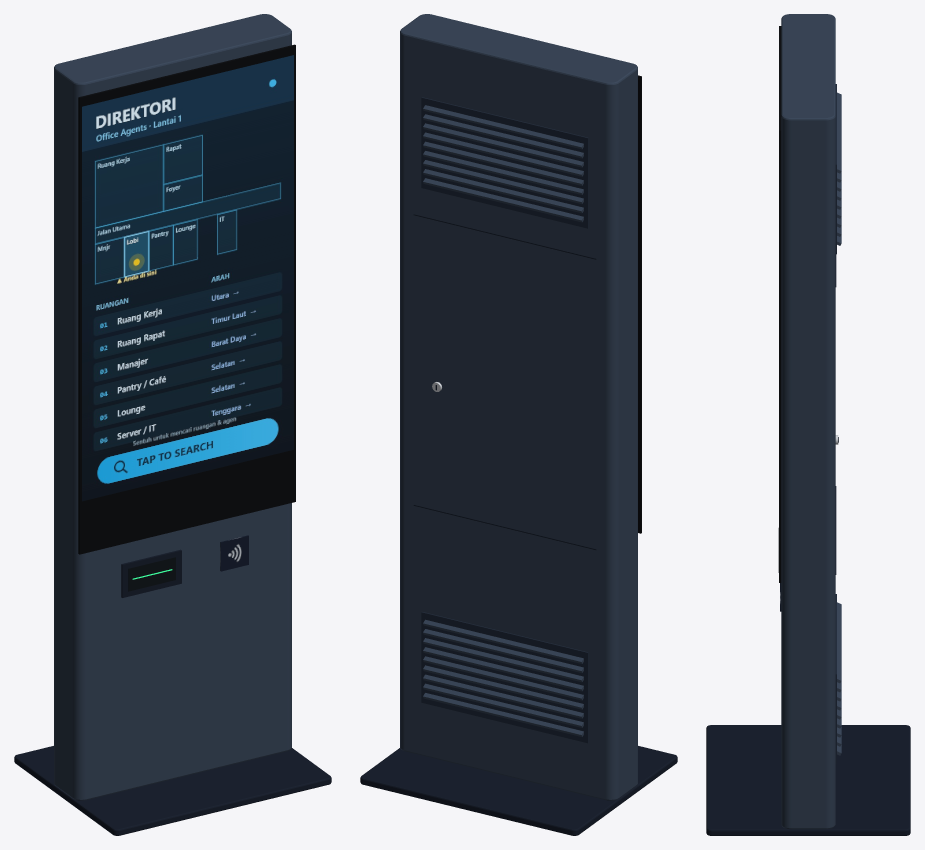
Rendered from Office_Lobby_Directory_Kiosk.glb.
The picture shows the model from 3 angles, left to right: view 1: azimuth 30°, elevation 25°; view 2: azimuth 150°, elevation 25°; view 3: azimuth 270°, elevation 25°; orthographic projection.
Visible parts, largest first — view 1: Kiosk_Screen, Monolith_Enclosure, Front_Toughened_Glass, Floor_Base_Plate, QR_Scanner_Window, QR_Scanner_Bezel, NFC_Tap_Badge; view 2: Monolith_Enclosure, Floor_Base_Plate, Louver_Frame_1, Louver_Frame_0, Front_Toughened_Glass, Louver_0_5, Louver_1_0, Louver_1_6, Louver_1_8, Louver_0_1, Louver_0_3, Louver_1_4 (+11 smaller); view 3: Monolith_Enclosure, Floor_Base_Plate, Front_Toughened_Glass, Louver_0_8, Louver_1_8.
Boxes of the visible parts, x1,y1,x2,y2 form: Kiosk_Screen: (82,55,293,501); Monolith_Enclosure: (54,14,291,800); Front_Toughened_Glass: (78,44,295,554); Floor_Base_Plate: (14,746,331,835); QR_Scanner_Window: (128,557,175,591); QR_Scanner_Bezel: (121,549,181,597); NFC_Tap_Badge: (220,535,248,571); Monolith_Enclosure: (400,14,637,800); Floor_Base_Plate: (360,746,677,835); Louver_Frame_1: (421,97,588,228); Louver_Frame_0: (421,612,588,743); Front_Toughened_Glass: (638,75,641,533); Louver_0_5: (423,647,583,691); Louver_1_0: (423,178,583,222); Louver_1_6: (423,123,583,167); Louver_1_8: (423,105,583,149); Louver_0_1: (423,683,583,727); Louver_0_3: (423,665,583,709); Louver_1_4: (423,141,583,185); Monolith_Enclosure: (781,14,835,829); Floor_Base_Plate: (706,725,910,835); Front_Toughened_Glass: (779,26,781,582); Louver_0_8: (837,602,841,683); Louver_1_8: (837,92,841,173).
Size of the model in its own units: 0.55 by 1.75 by 0.45.
Materials: 10 (2 with a texture image).
